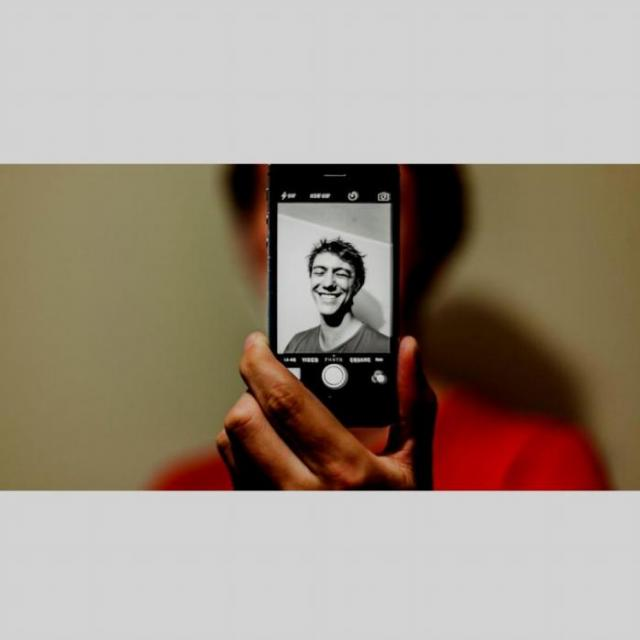device: (266, 163, 406, 424)
